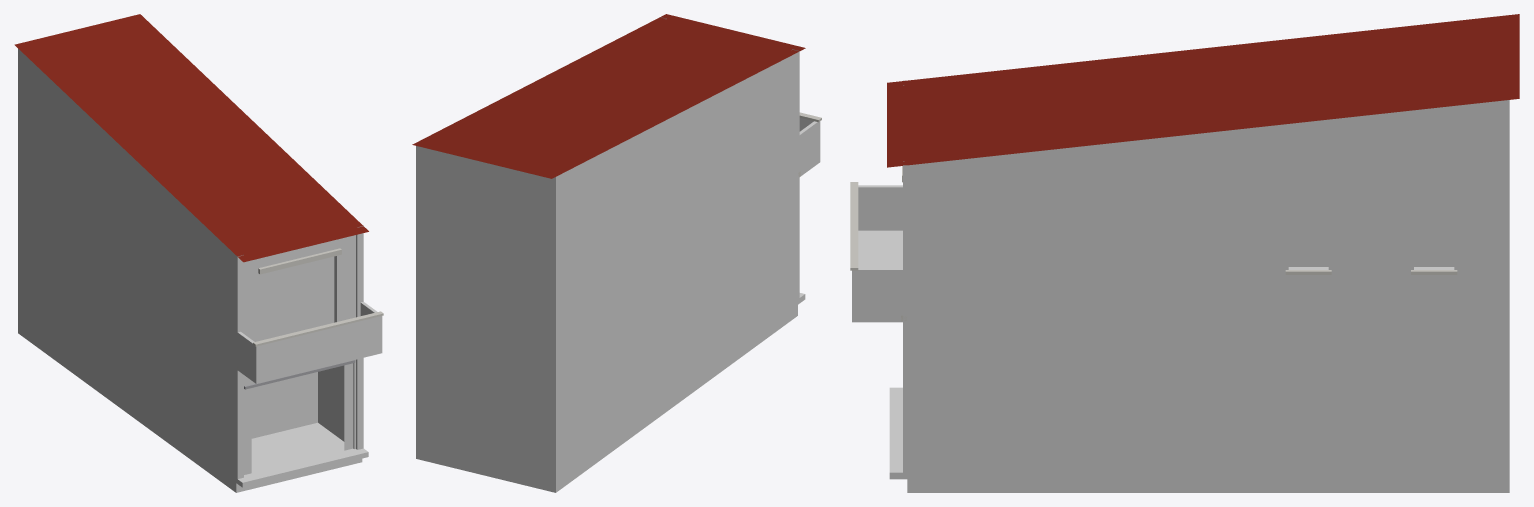
The picture shows the model from 3 angles, left to right: view 1: azimuth 30°, elevation 25°; view 2: azimuth 150°, elevation 25°; view 3: azimuth 270°, elevation 25°; orthographic projection. The views are drawn at different scales.
Parts seen in each view (by area): view 1: TH_D12_R_17_LOD0; view 2: TH_D12_R_17_LOD0; view 3: TH_D12_R_17_LOD0.
Boxes of the visible parts, left/top/right/bottom form: TH_D12_R_17_LOD0: left=14, top=14, right=383, bottom=492; TH_D12_R_17_LOD0: left=412, top=14, right=821, bottom=492; TH_D12_R_17_LOD0: left=850, top=14, right=1519, bottom=492.
Size of what is drawn, in the model's own units: 4.11 by 8.66 by 13.33.
